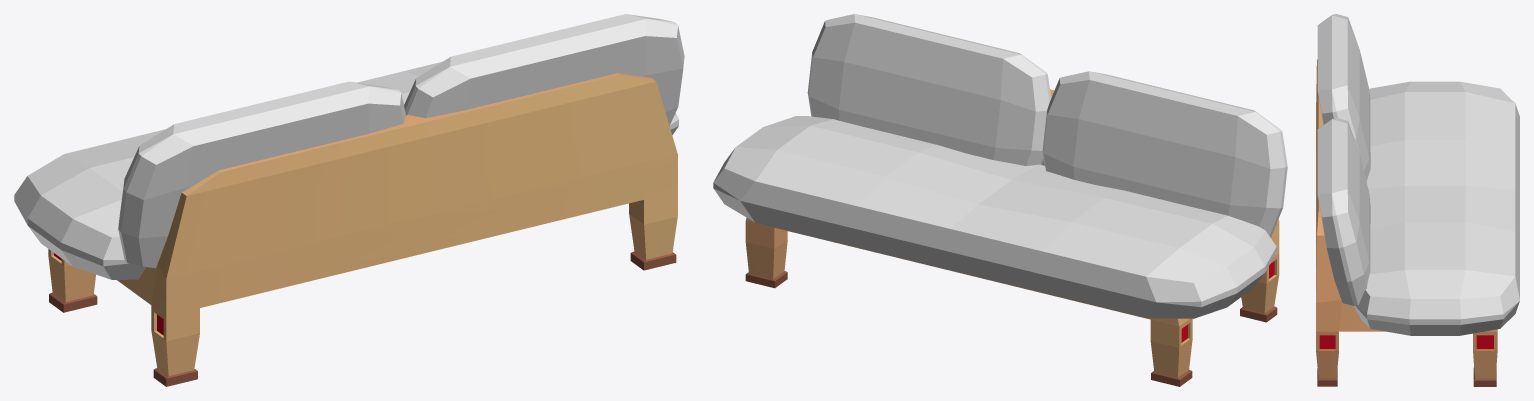
The model's file is Prop_Sofa_Modern03.fbx.
3 views of the same model, side by side, from view 1: azimuth 30°, elevation 25°; view 2: azimuth 150°, elevation 25°; view 3: azimuth 270°, elevation 25° (orthographic). The views are drawn at different scales.
Parts seen in each view (by area): view 1: Sofa_Outdoor_Red; view 2: Sofa_Outdoor_Red; view 3: Sofa_Outdoor_Red.
Boxes of the visible parts, x1,y1,x2,y2 form: Sofa_Outdoor_Red: (14,14,684,386); Sofa_Outdoor_Red: (713,14,1287,386); Sofa_Outdoor_Red: (1316,14,1519,386).
Bounding box in the file's own units: 158 × 60.47 × 60.11.
